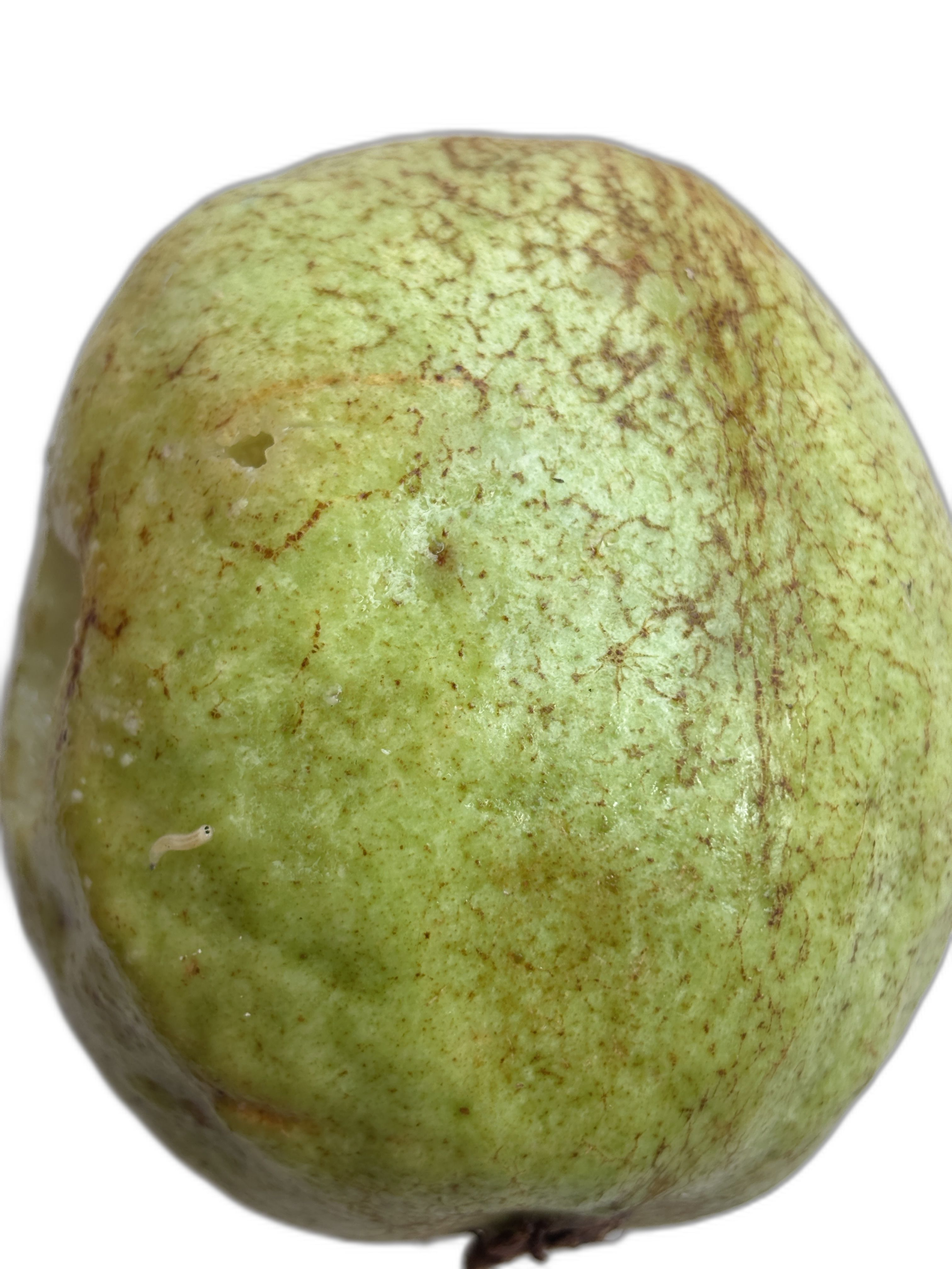guava: (100, 241, 854, 1192)
